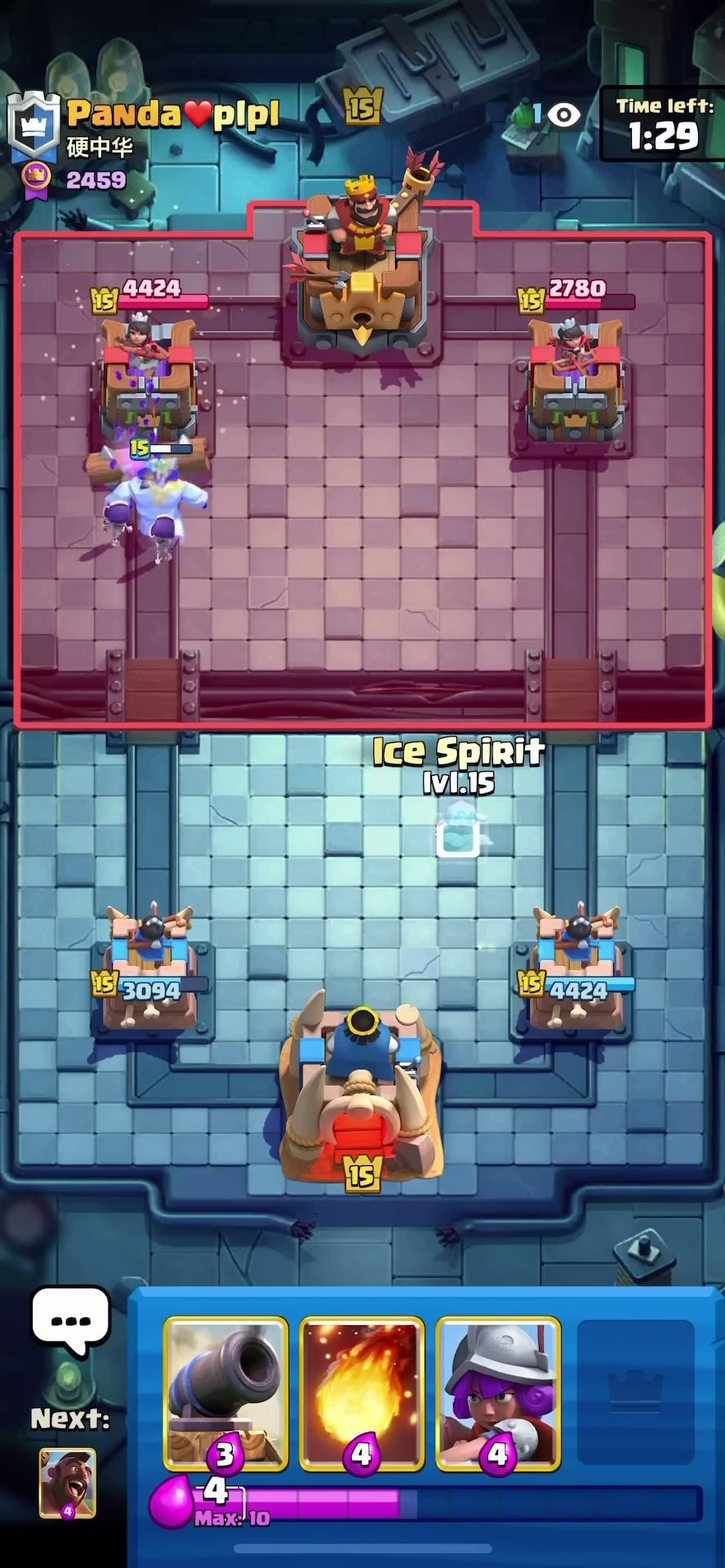evo_skeletons: (92, 498, 200, 568)
ice_golem: (120, 451, 210, 525)
log: (67, 435, 225, 480)
